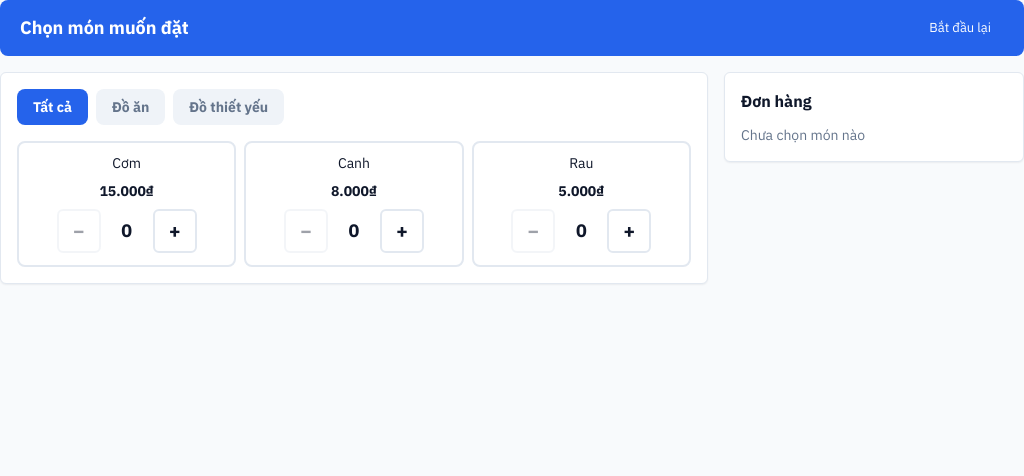
MenuCalculator — global-menu order builder › hides tender + submit until an item is ordered
The image size is (1024, 476).
Expected: the button "đặt món" is not shown
Click the button "+" below "15.000" at point(175, 230), box [153,208,197,252]
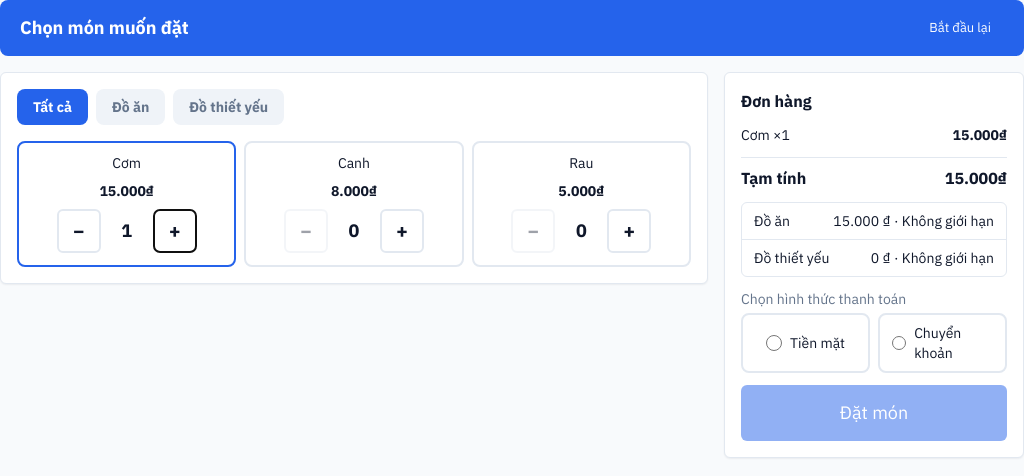
Expected: the element with test id "subtotal" is shown, [741,166,1007,190]
Expected: the button "Đặt món" is shown, [741,385,1007,441]
